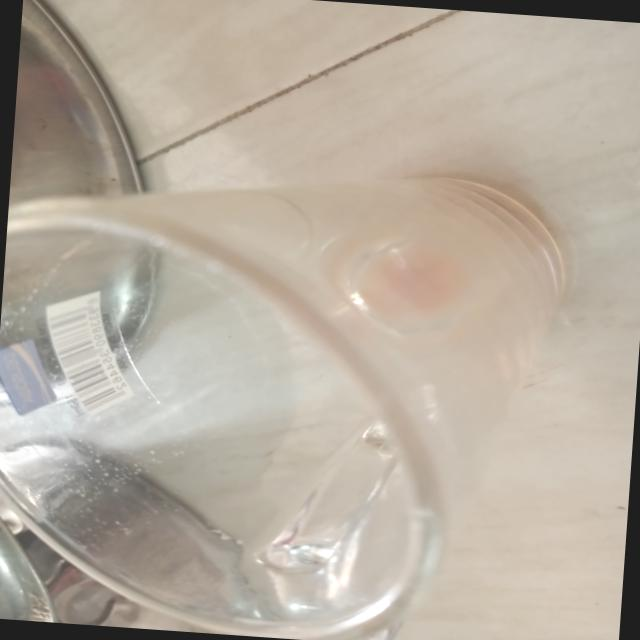glass-VX4N: (0, 201, 574, 640)
